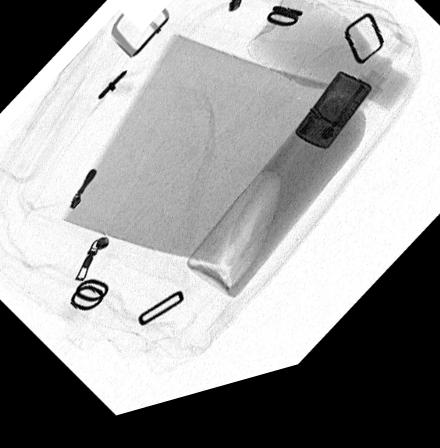Lighter: (294, 90, 371, 167)
